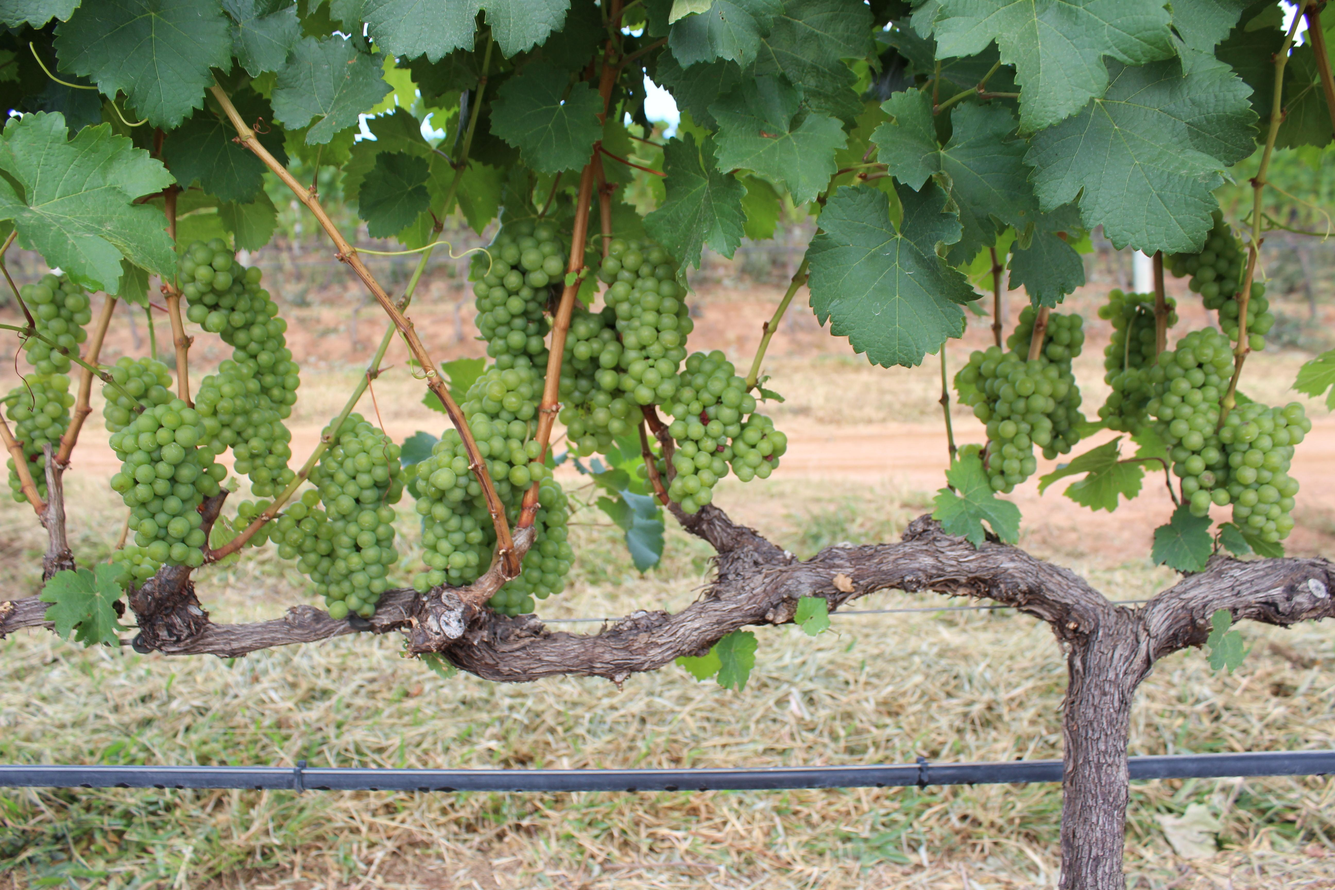leaf: (1026, 60, 1255, 253), (0, 113, 176, 294), (935, 0, 1175, 132), (807, 184, 977, 366), (55, 0, 232, 128), (710, 77, 846, 204), (752, 0, 871, 121), (644, 134, 745, 268), (271, 37, 390, 145), (491, 61, 602, 173), (932, 453, 1021, 547), (668, 0, 783, 67), (39, 563, 127, 646), (653, 52, 743, 129), (872, 89, 939, 190), (222, 0, 301, 77), (358, 153, 430, 237), (1007, 231, 1085, 308), (1151, 504, 1212, 572), (218, 190, 277, 251), (1206, 609, 1250, 674), (713, 630, 757, 691), (740, 175, 781, 240), (1293, 349, 1335, 408), (0, 0, 80, 29), (675, 647, 722, 681), (793, 596, 830, 636), (399, 431, 439, 467), (1218, 522, 1252, 557)
